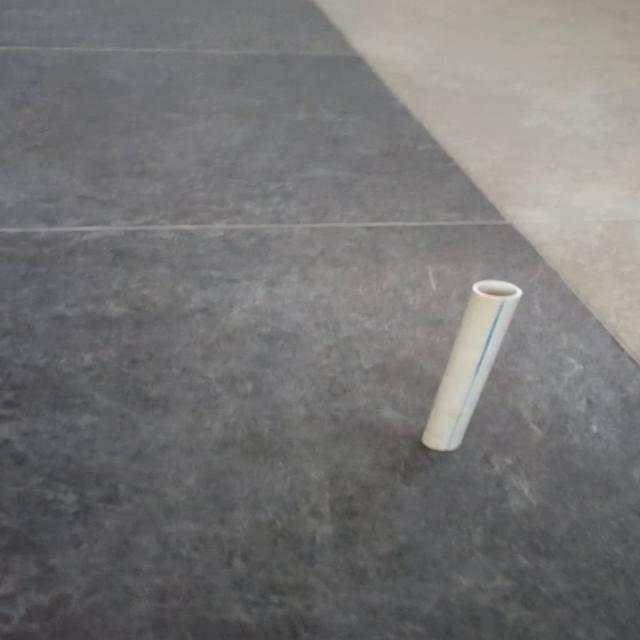Cube: (418, 278, 522, 452)
